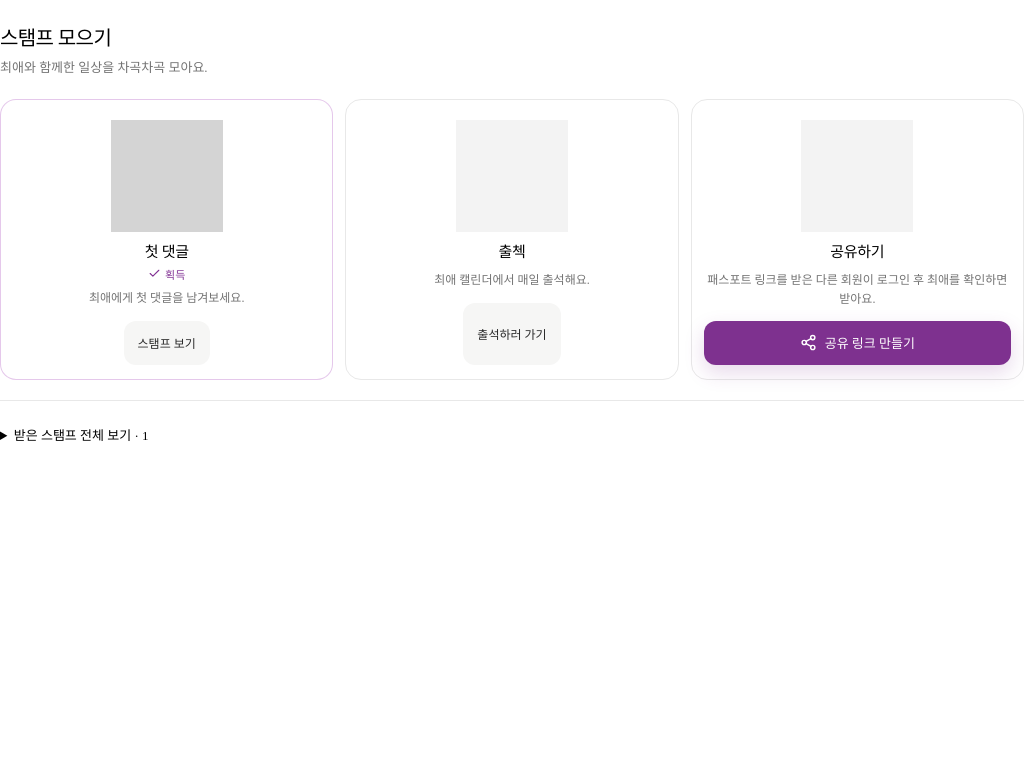
distinguishes the queued registration status from the earned Stamp
Click the button "스탬프 보기".
click(167, 343)  # box [124,321,210,365]
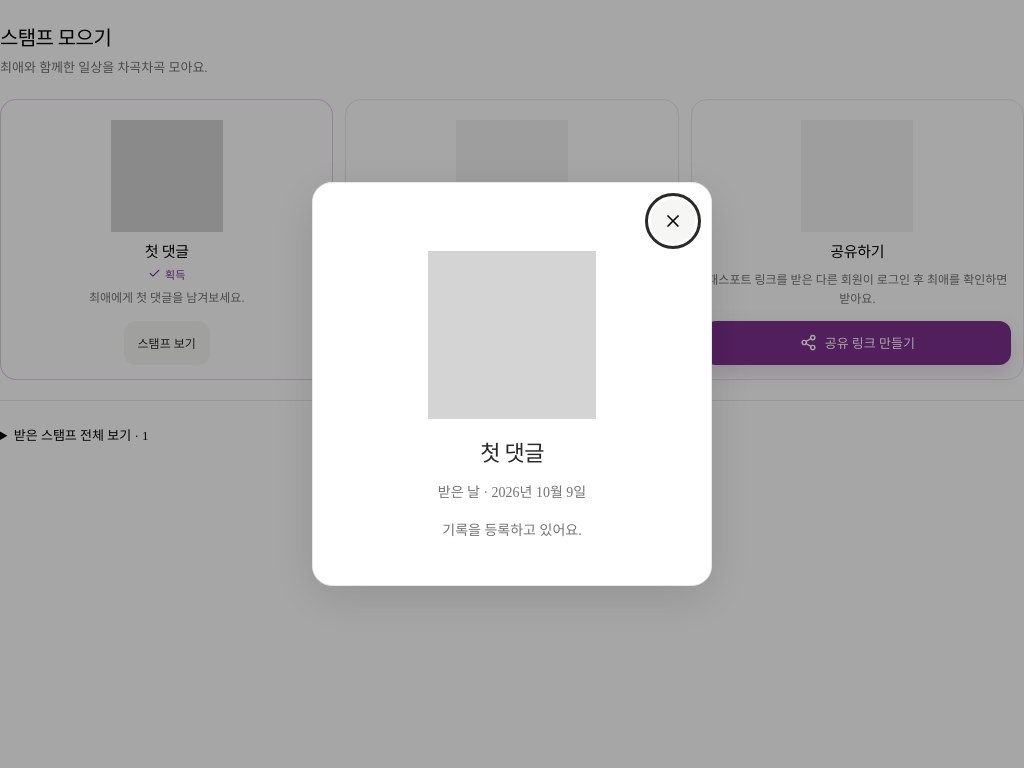
Check: the text "기록을 등록하고 있어요." is shown, box [442,523,582,538]
